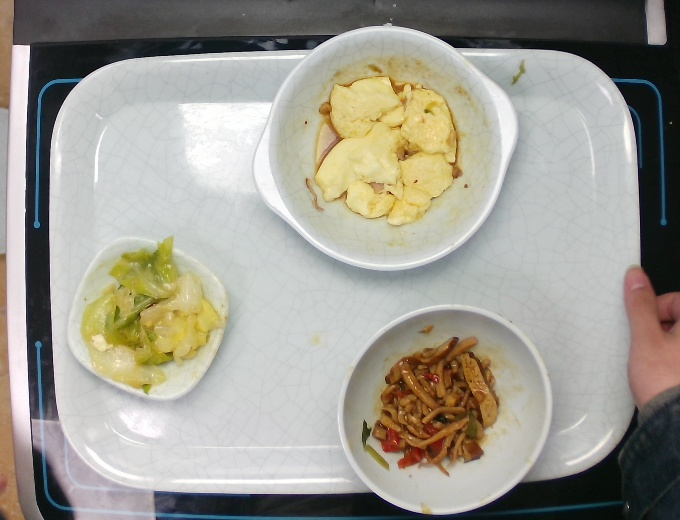JYsf-Fan_Wan: (336, 300, 554, 518)
JYsf-Shuang_Er_Wan: (248, 23, 522, 275)
JYsf-Si_Fang_Die: (64, 234, 230, 402)
